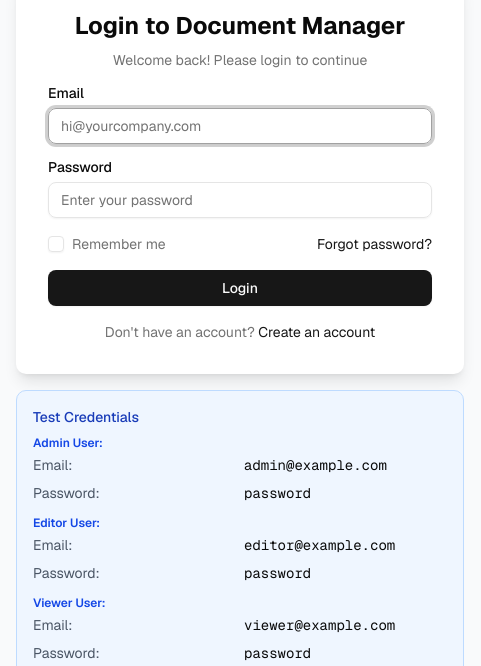
Test: LoginPage › shows error state for empty form fields
The width and height of the screenshot is (481, 666).
# Submit without filling in any fields
Click the button "Login".
click(240, 288)  # box [48,270,432,306]
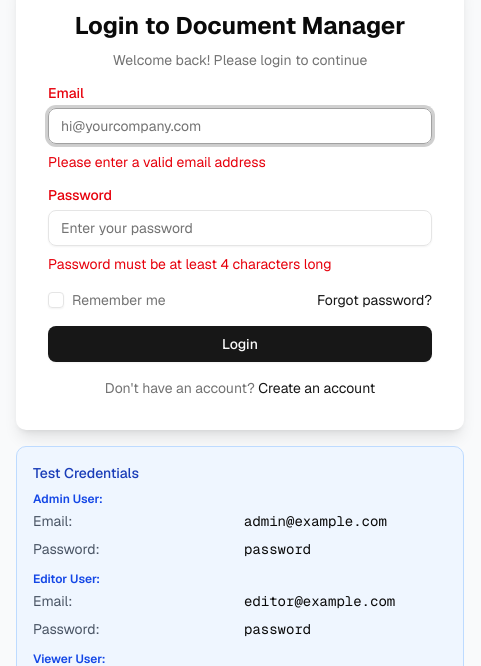
Result: the text "Please enter a valid email address" is shown at [48,153,266,171]
Result: the text "Password must be at least 4 characters long" is shown at [48,255,332,273]
